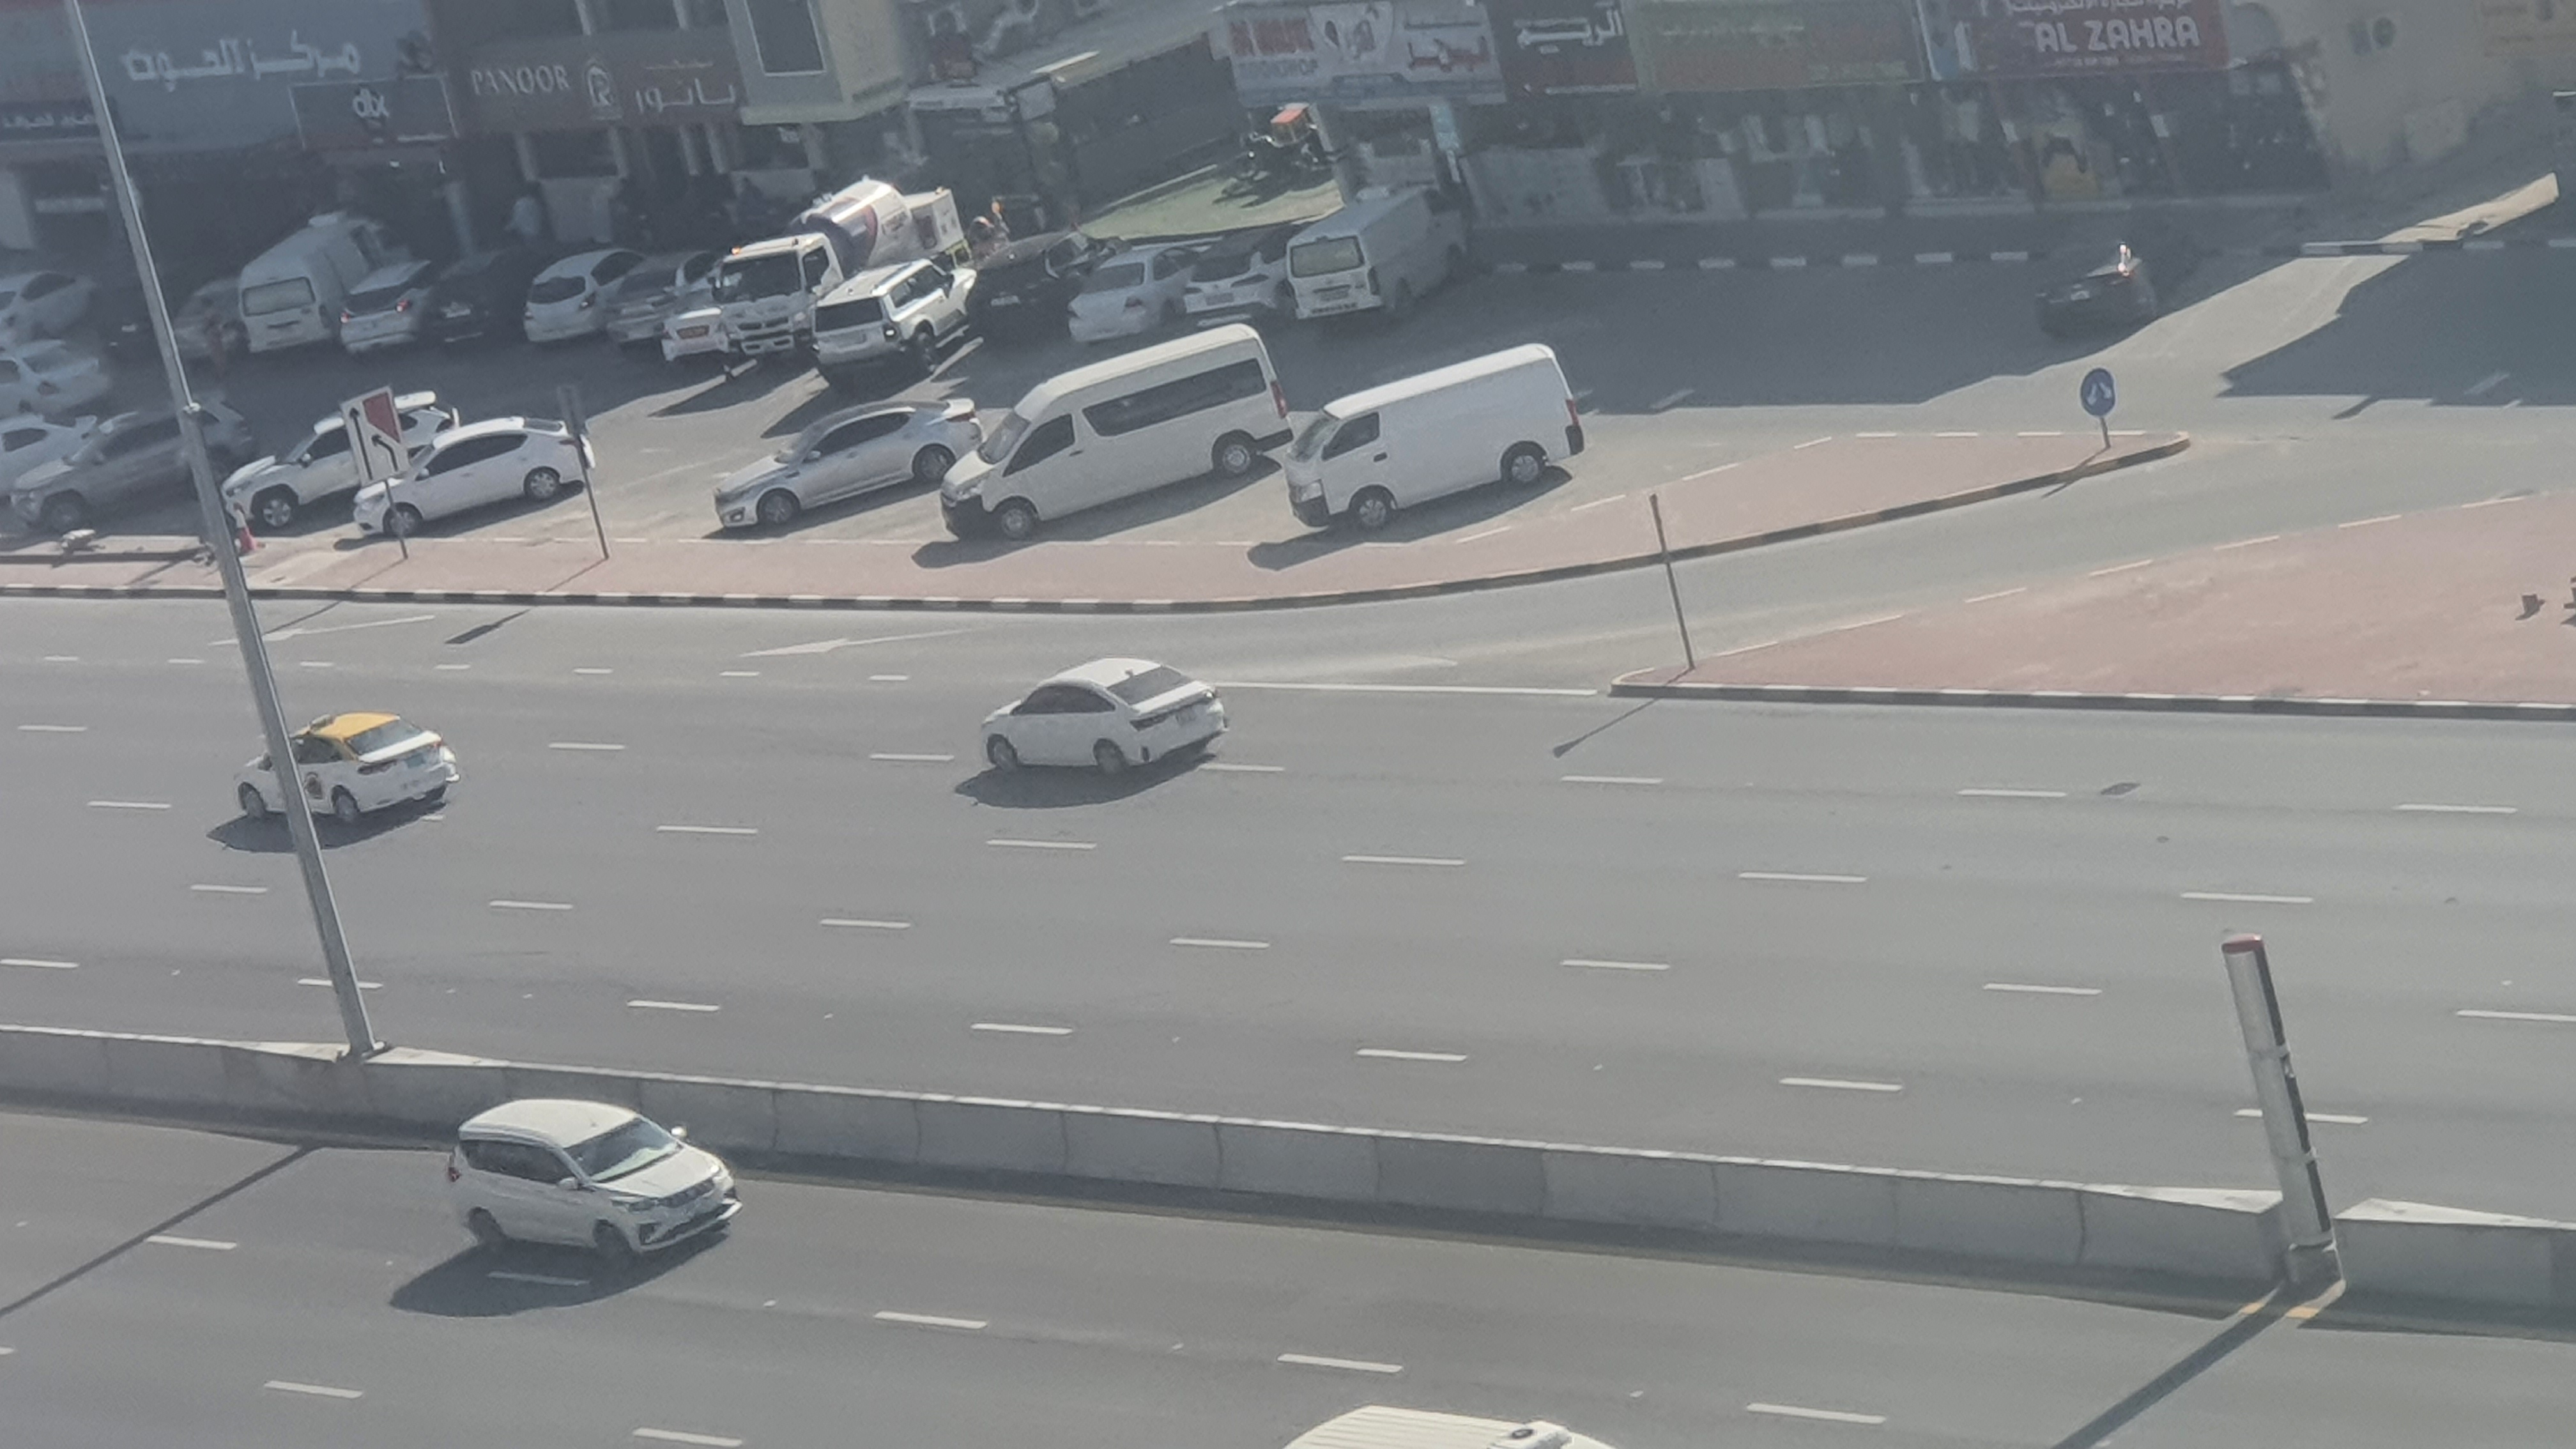NotSunroof: (442, 1077, 755, 1284)
